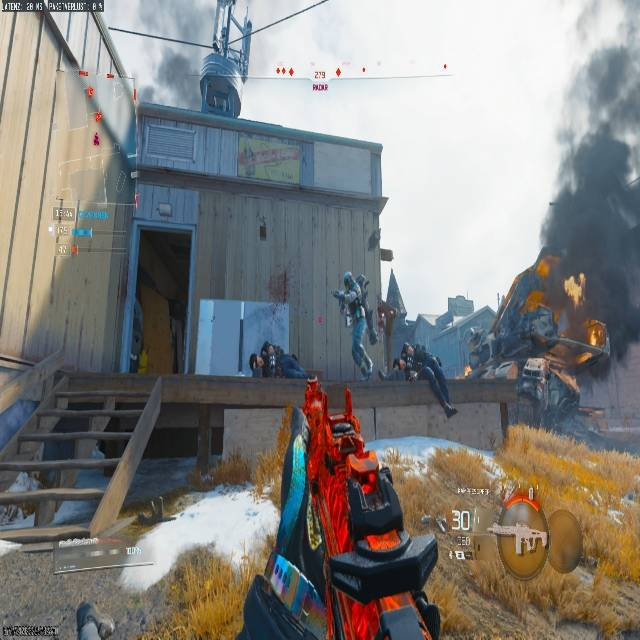head: (343, 273, 353, 289)
player: (332, 273, 374, 379), (400, 343, 417, 383)
